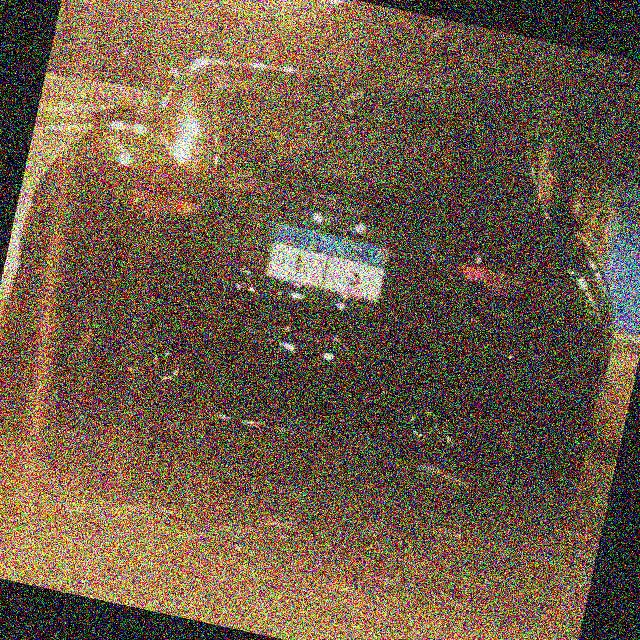License Plate: (259, 215, 398, 309)
